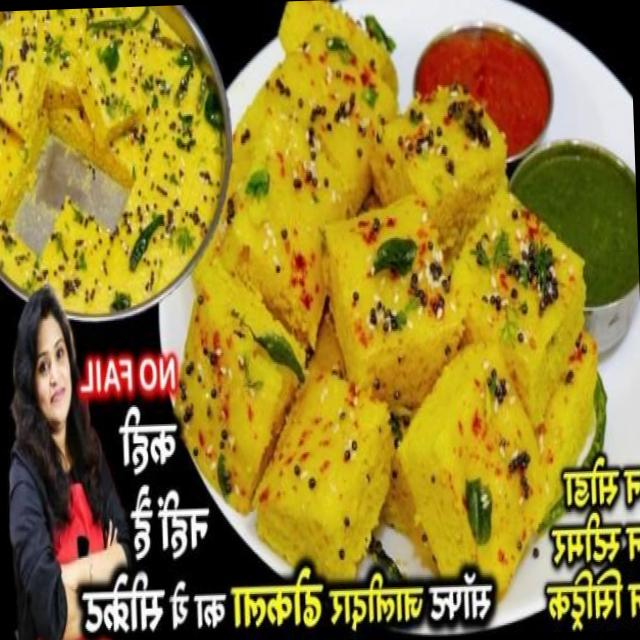dhokla: (202, 209, 572, 576), (0, 3, 419, 304)
